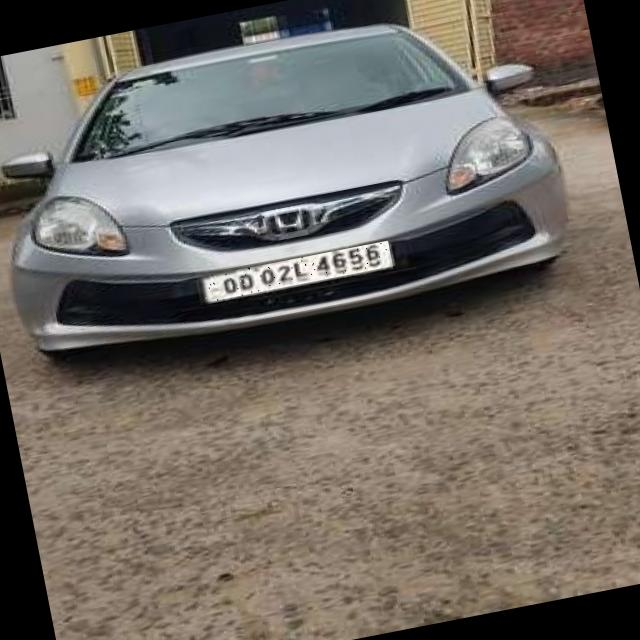Plate: (197, 242, 394, 305)
